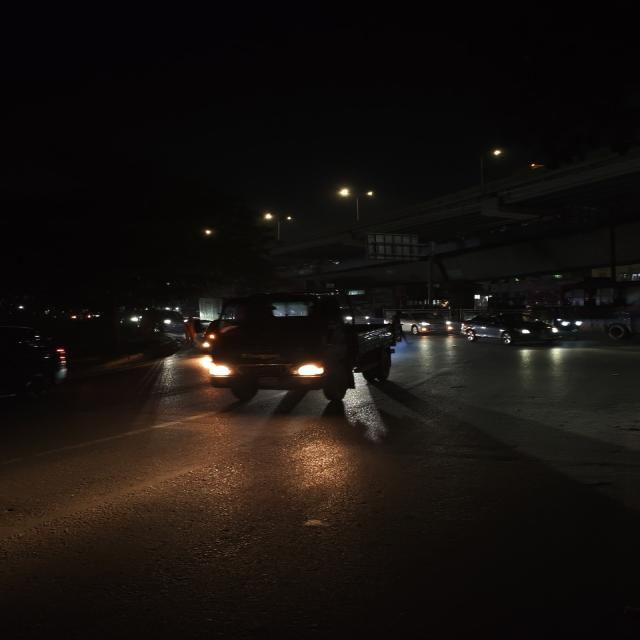car: (0, 322, 72, 416), (460, 310, 560, 348), (412, 311, 454, 337)
cng: (554, 304, 588, 339)
pickup_van: (198, 290, 402, 408)
